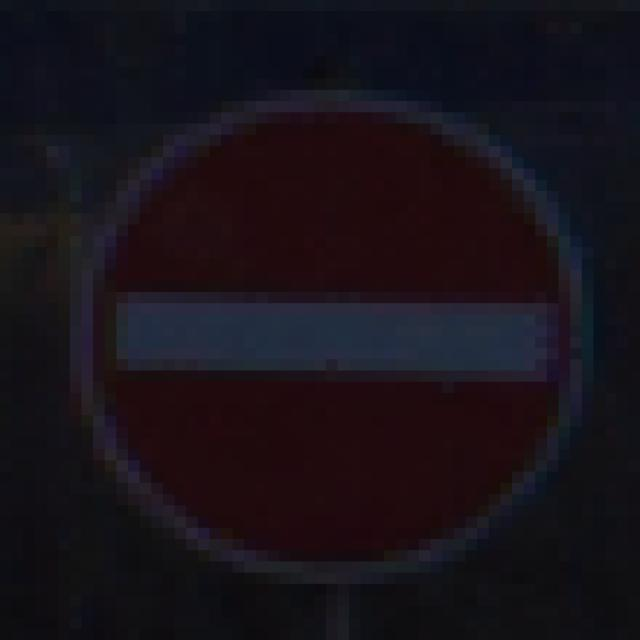No Entry: (59, 68, 583, 585)
